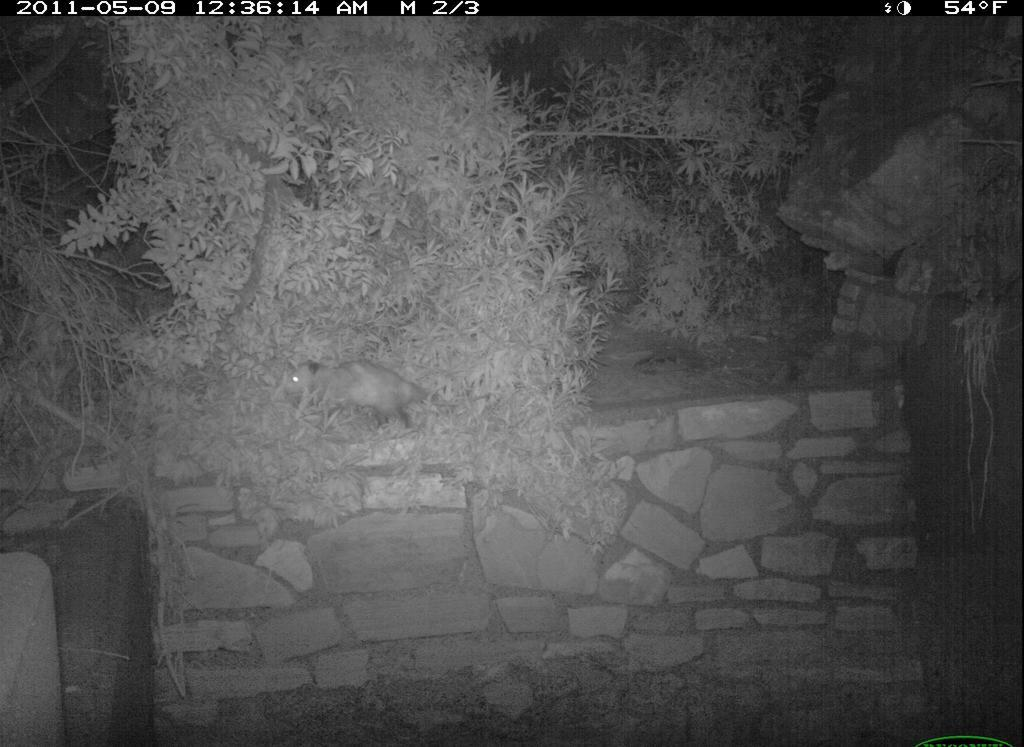opossum: (269, 342, 478, 455)
